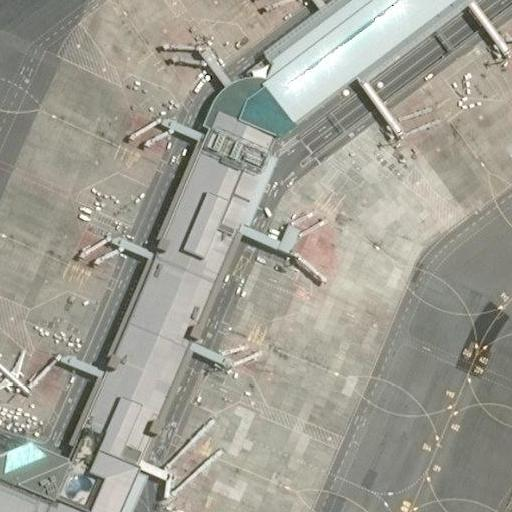Aircraft: (0, 342, 34, 400), (498, 491, 512, 512)
